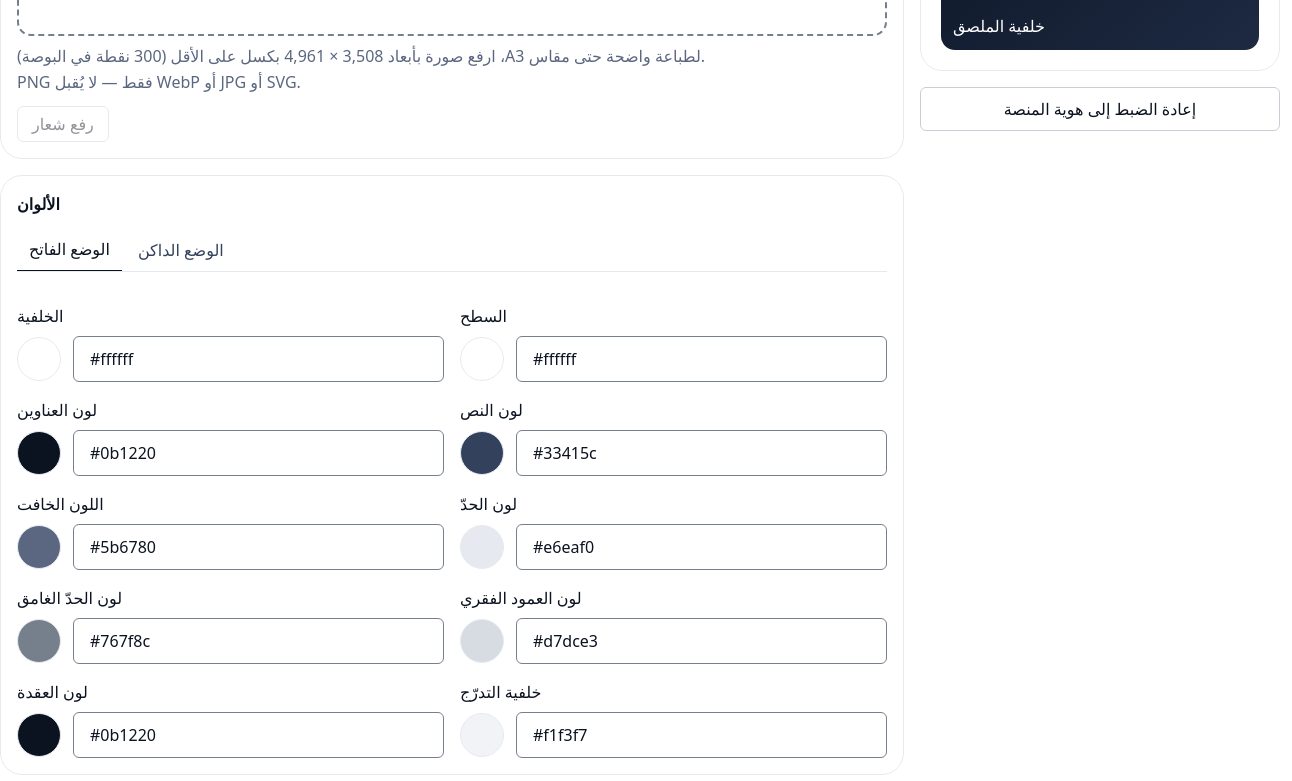
Test: BrandKitEdit — the eight cases of the deleted form › switching to the dark tab edits the dark set without losing the light edits
The width and height of the screenshot is (1292, 781).
(page scrolled)
Replace the text in the field labelled "لون العناوين" with "#ff0000": (258, 453) x1=73 y1=430 x2=444 y2=476
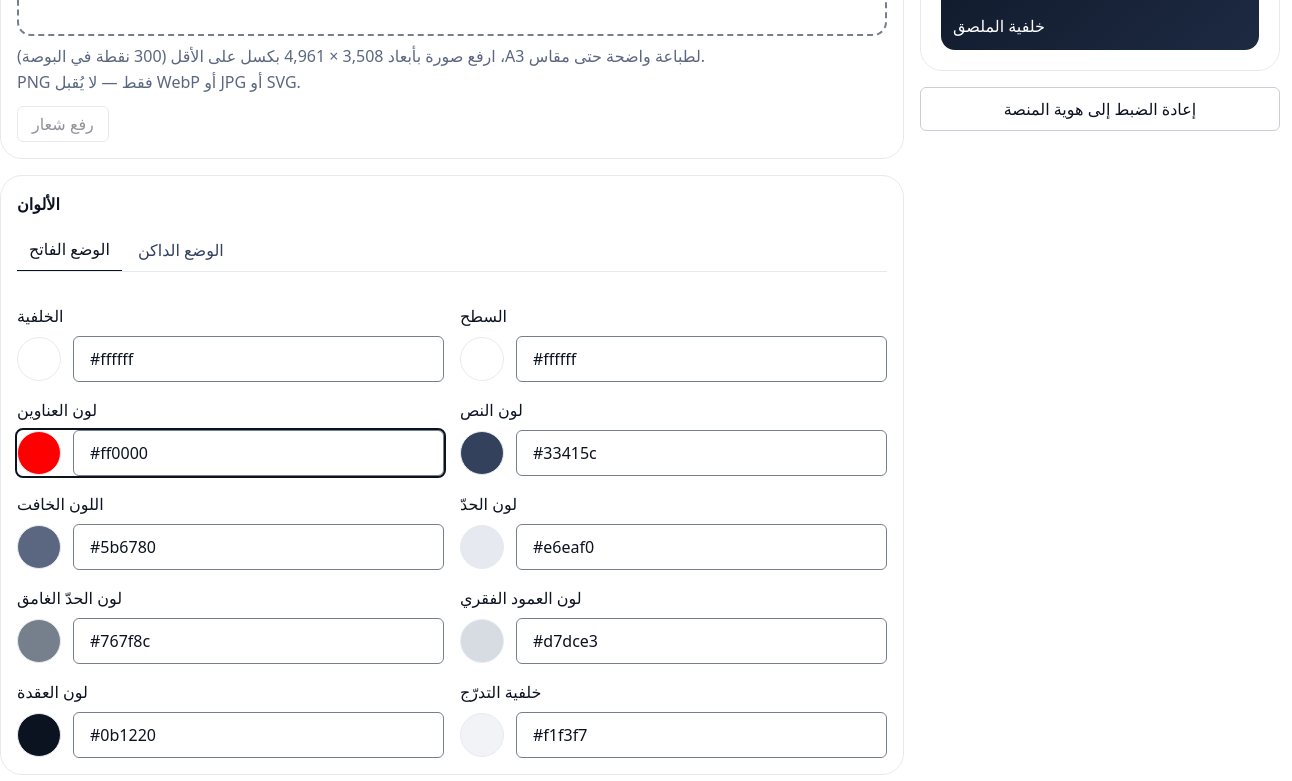
Click the tab "الوضع الداكن": (181, 250) x1=126 y1=228 x2=236 y2=272
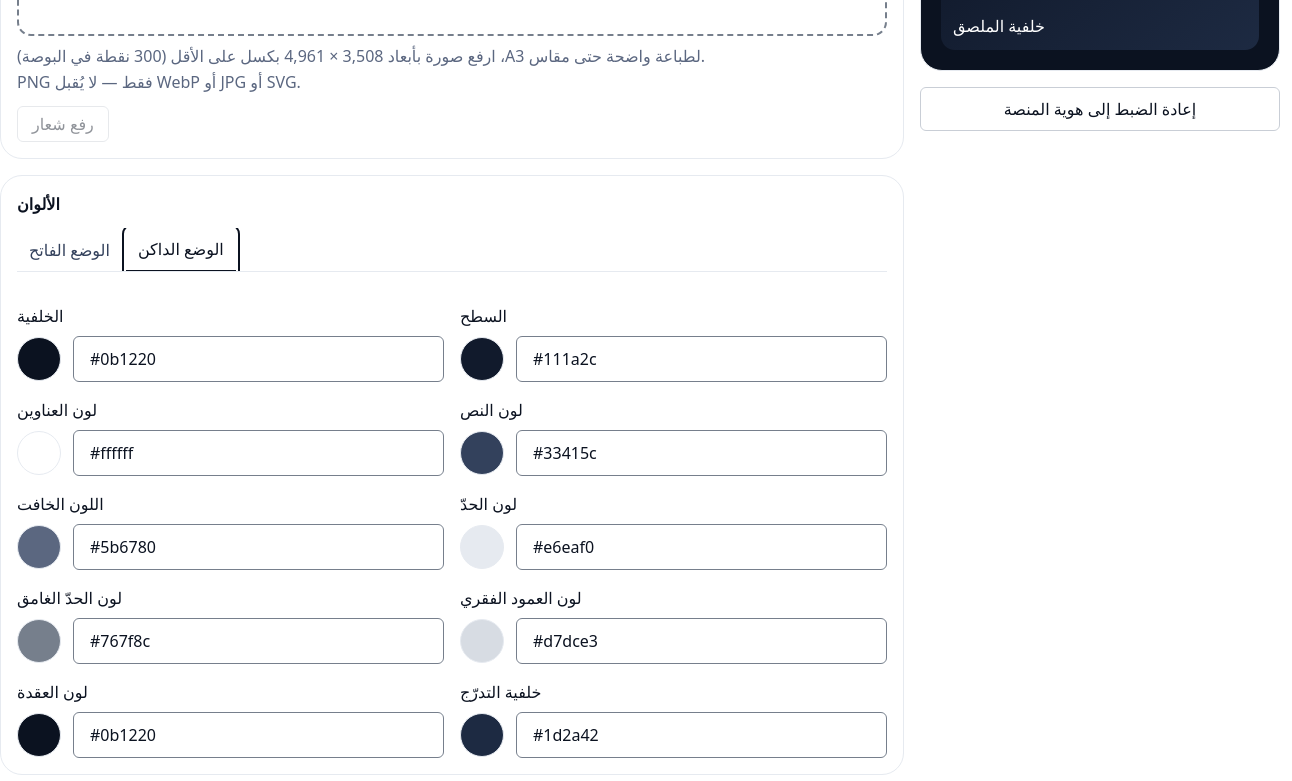
Now the field labelled "لون العناوين" holds "#ffffff", box x1=73 y1=430 x2=444 y2=476
Click the tab "الوضع الفاتح": (69, 250) x1=17 y1=228 x2=122 y2=272
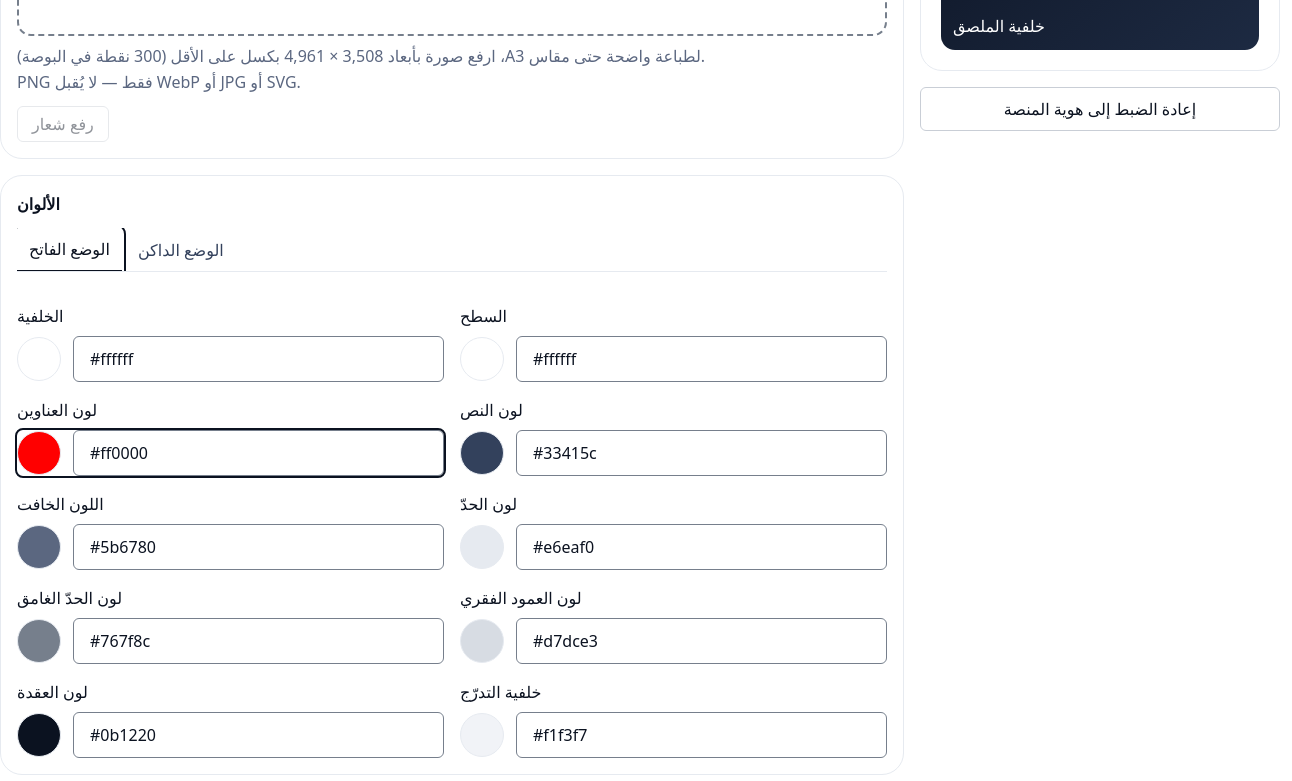
Now the field labelled "لون العناوين" holds "#ff0000", box x1=73 y1=430 x2=444 y2=476
